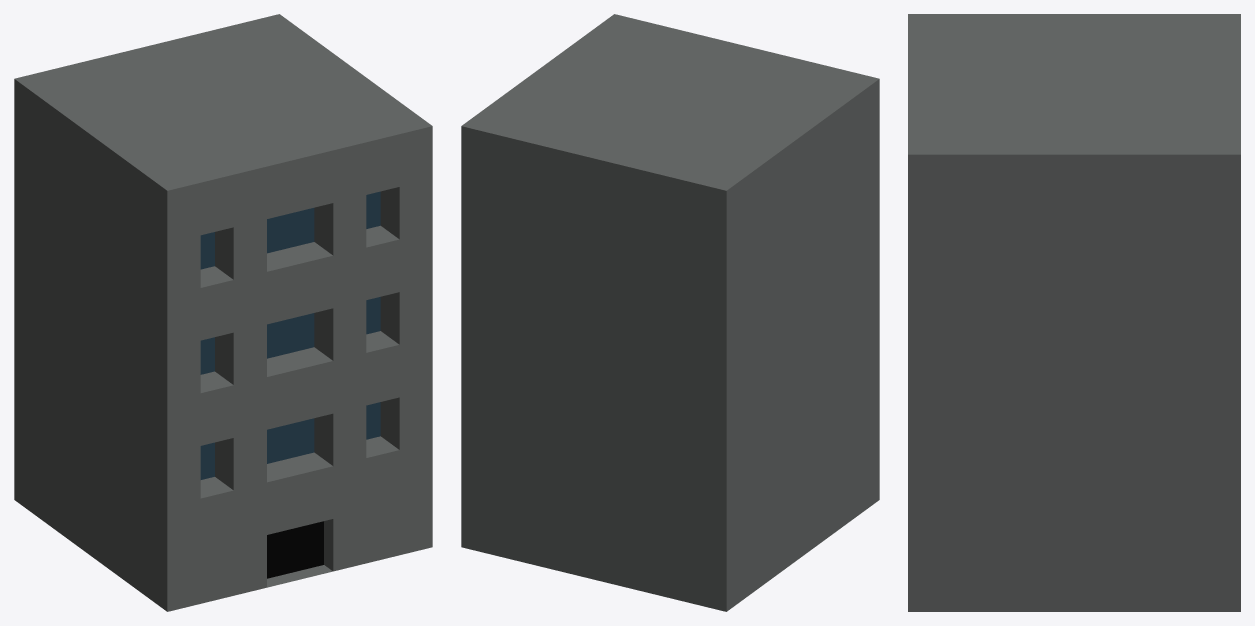
Rendered from BackgroundBuilding2.fbx.
3 renders of one model, left to right at view 1: azimuth 30°, elevation 25°; view 2: azimuth 150°, elevation 25°; view 3: azimuth 270°, elevation 25°, orthographic. The views are drawn at different scales.
Visible parts, largest first — view 1: Cube.001; view 2: Cube.001; view 3: Cube.001.
Part boxes in pixels (x1,y1,x2,y2): Cube.001: (14, 14, 432, 611); Cube.001: (461, 14, 879, 611); Cube.001: (908, 14, 1240, 611).
Bounding box in the file's own units: 653 × 990 × 653.
